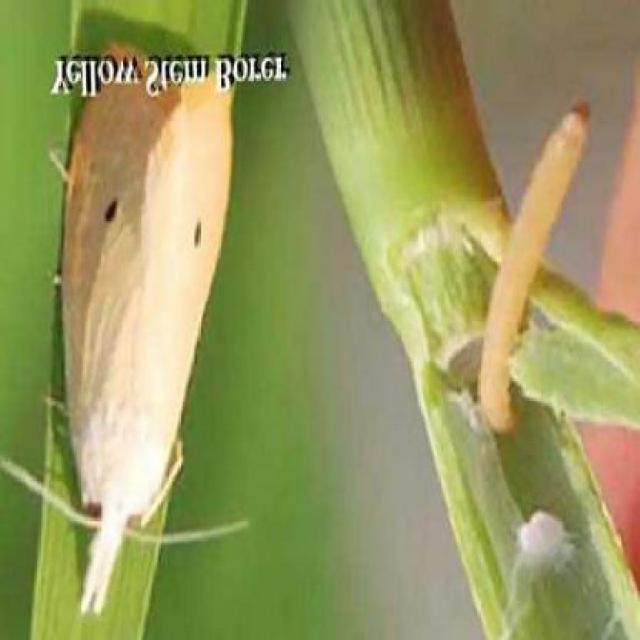stem-borer: (45, 109, 237, 620)
